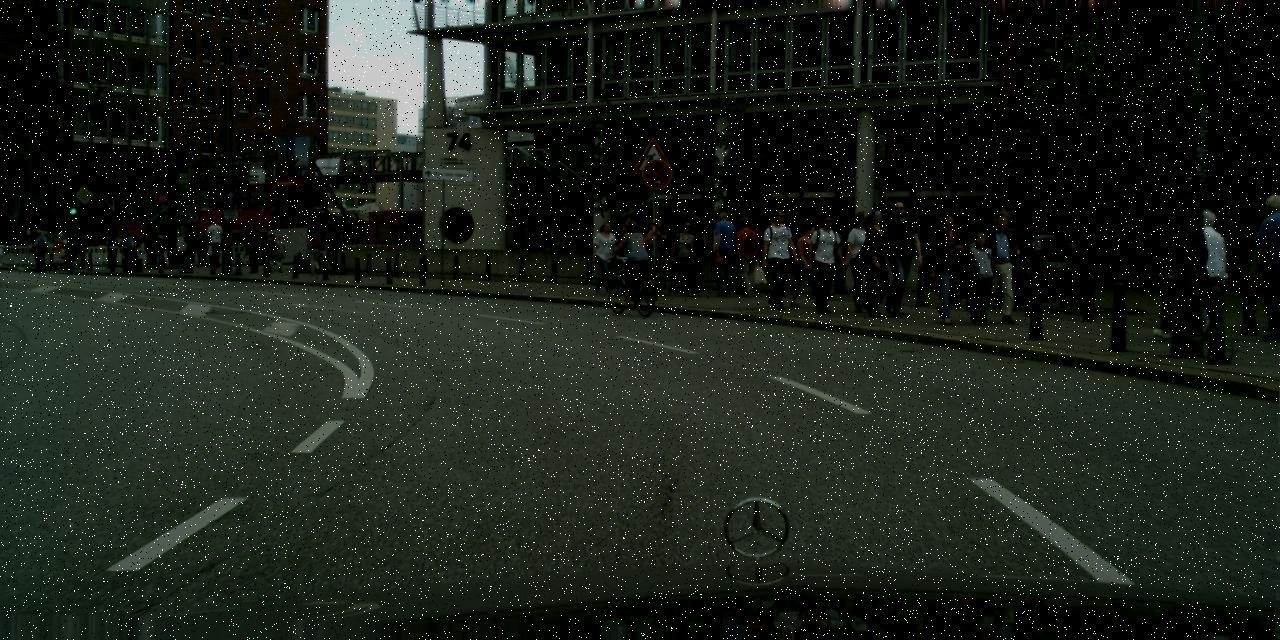ped: (1152, 206, 1206, 338), (1181, 208, 1234, 338), (874, 202, 920, 316), (922, 208, 968, 320), (1246, 193, 1279, 339), (975, 211, 1019, 319), (853, 209, 897, 316), (841, 210, 882, 312), (756, 207, 796, 307), (805, 214, 845, 312), (960, 230, 999, 324), (706, 212, 741, 296), (790, 223, 824, 305), (663, 212, 696, 292), (729, 216, 762, 296), (678, 215, 710, 292), (640, 217, 671, 292), (611, 214, 641, 288), (590, 221, 620, 295), (669, 222, 699, 294), (616, 220, 645, 290), (638, 223, 663, 284), (322, 218, 344, 274), (204, 216, 225, 268), (242, 219, 263, 271), (304, 228, 324, 274), (141, 224, 159, 268), (31, 229, 48, 272), (153, 228, 169, 268), (262, 231, 278, 271), (183, 225, 198, 264), (273, 233, 288, 272), (190, 228, 204, 264), (106, 232, 120, 266), (121, 232, 135, 266), (73, 230, 86, 264), (198, 232, 210, 262), (44, 238, 54, 267), (53, 235, 64, 261), (42, 234, 48, 248), (341, 200, 346, 215), (240, 153, 244, 164), (245, 154, 248, 164)
